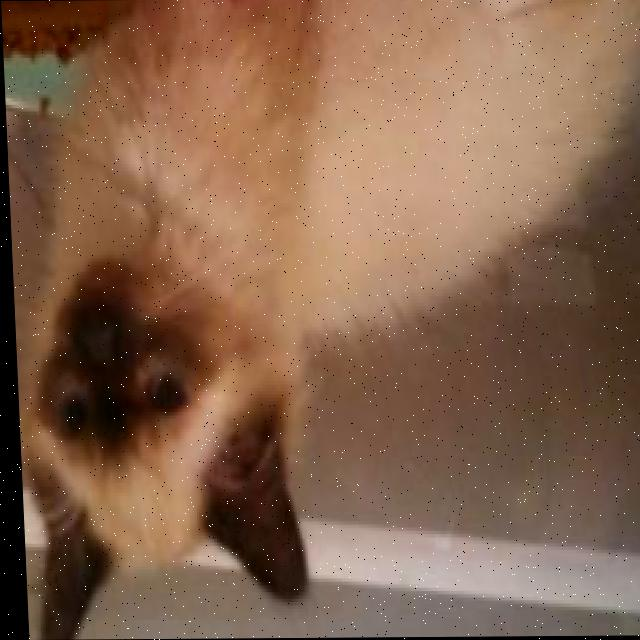Birman: (2, 0, 640, 640)
